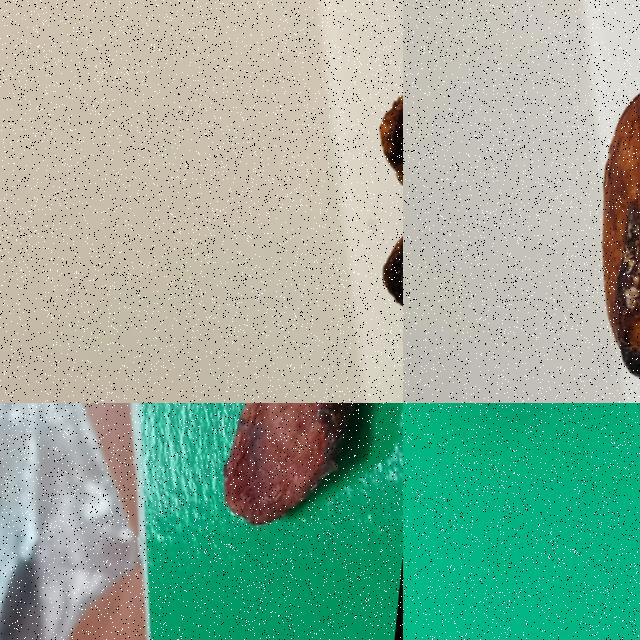Fine_cocoabeans: (528, 23, 639, 402), (403, 403, 639, 558)
Flat_cocoabeans: (125, 403, 402, 581), (298, 5, 402, 402)
